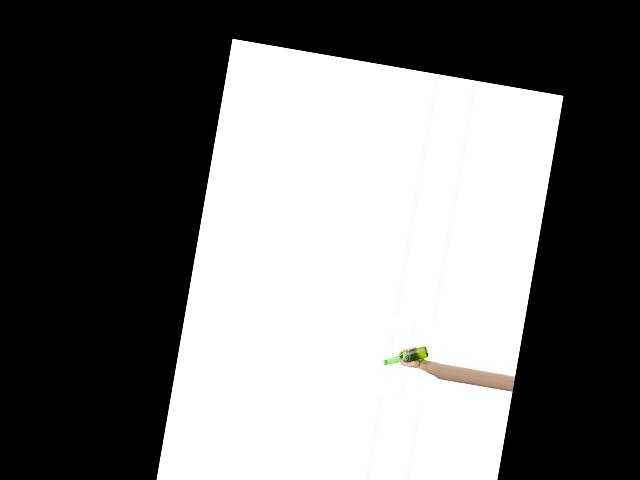beer: (383, 340, 429, 372)
